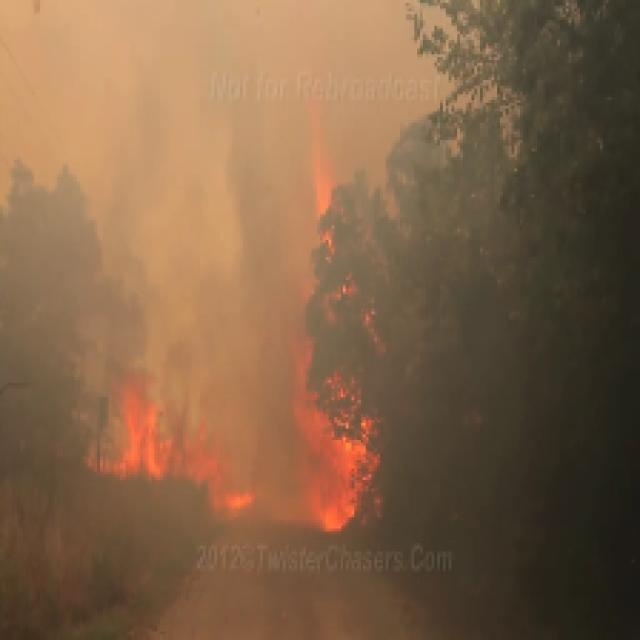Fire: (66, 294, 440, 546)
Smoke: (0, 0, 385, 371)
